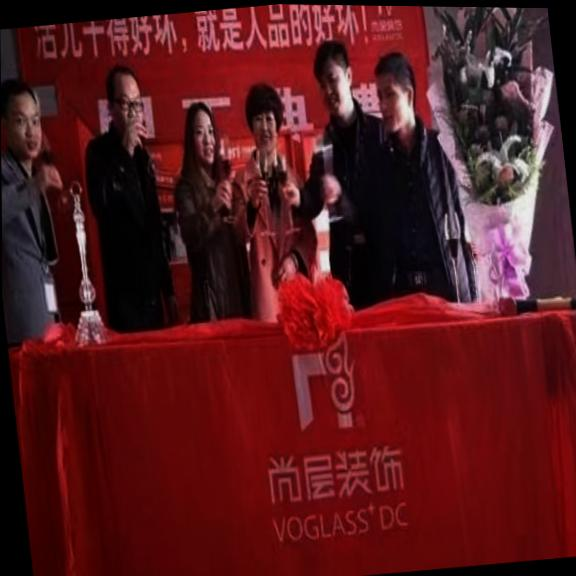no_safety_vest: (292, 101, 400, 319), (363, 119, 478, 315), (79, 127, 180, 340), (225, 143, 327, 331), (168, 155, 256, 333), (1, 139, 69, 352)
